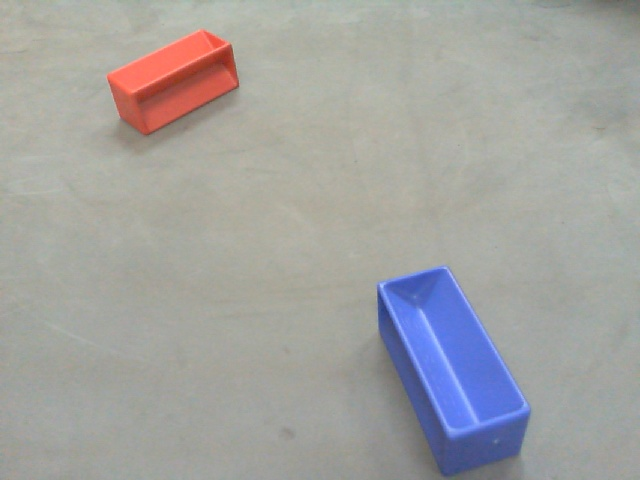BlueSample: (376, 260, 535, 479)
RedSample: (105, 24, 244, 139)
